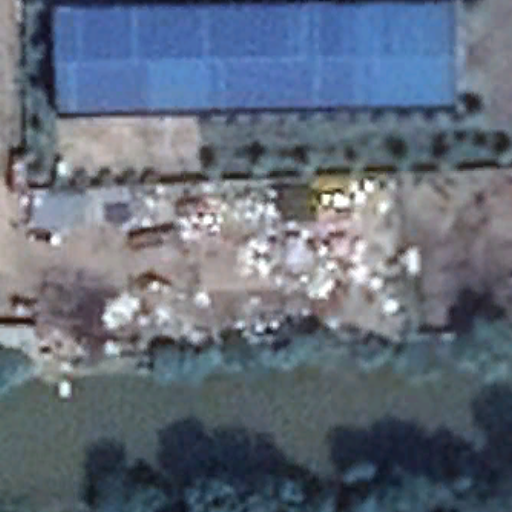msw: (76, 185, 393, 345)
